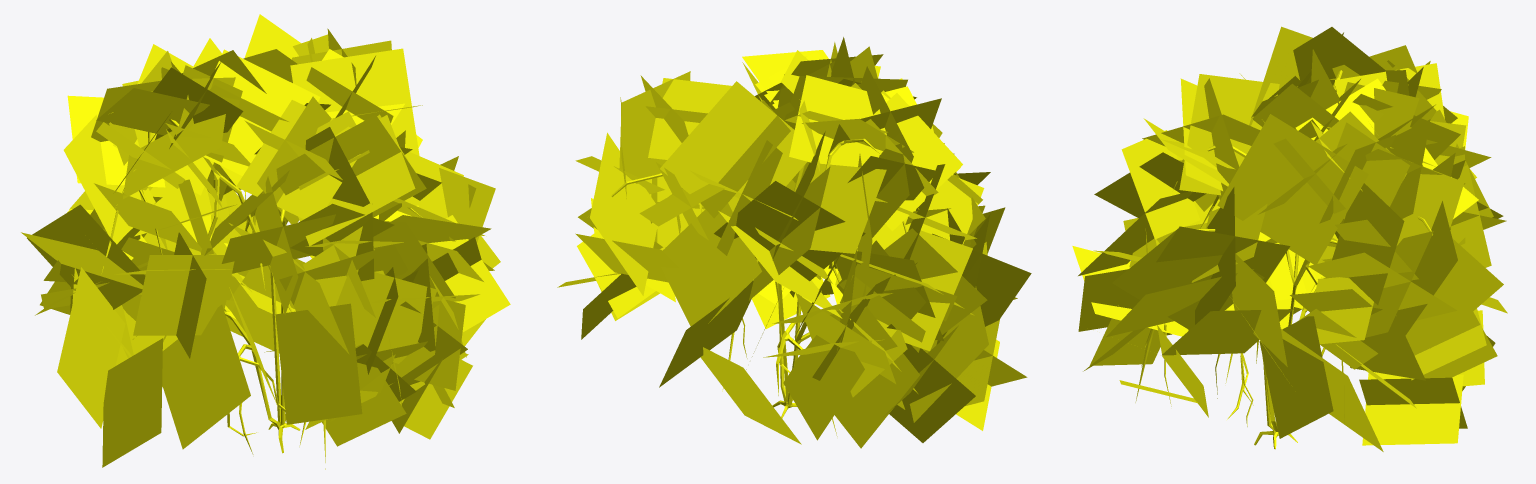
The model's file is bush_berry.glb.
3 renders of one model, left to right at view 1: azimuth 30°, elevation 25°; view 2: azimuth 150°, elevation 25°; view 3: azimuth 270°, elevation 25°, orthographic.
Visible parts, largest first — view 1: Blackberry_LOD0, SM_Blackberry_LOD0; view 2: Blackberry_LOD0, SM_Blackberry_LOD0; view 3: Blackberry_LOD0, SM_Blackberry_LOD0.
Boxes of the visible parts, x1=… form: Blackberry_LOD0: x1=21, y1=14, x2=510, y2=467; SM_Blackberry_LOD0: x1=101, y1=112, x2=422, y2=469; Blackberry_LOD0: x1=557, y1=37, x2=1031, y2=448; SM_Blackberry_LOD0: x1=587, y1=138, x2=919, y2=436; Blackberry_LOD0: x1=1072, y1=26, x2=1507, y2=451; SM_Blackberry_LOD0: x1=1135, y1=70, x2=1432, y2=449.
Size of the model in its own units: 1.97 by 1.62 by 1.76.
